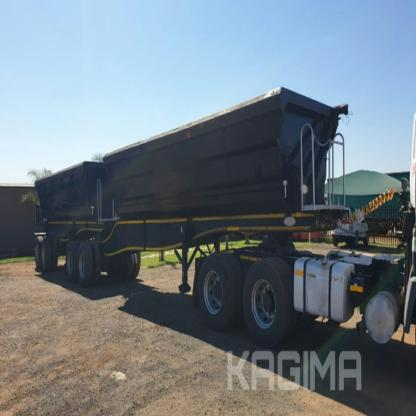dump_truck: (32, 83, 415, 352)
